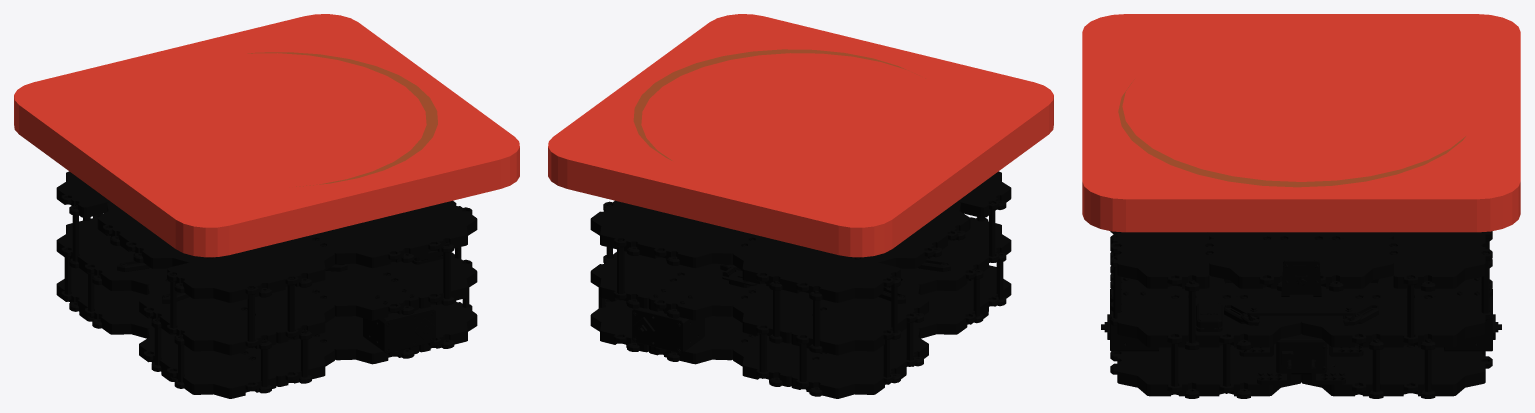
Rendered from AmazonRobot.glb.
3 views of the same model, side by side, from view 1: azimuth 30°, elevation 25°; view 2: azimuth 150°, elevation 25°; view 3: azimuth 270°, elevation 25° (orthographic). The views are drawn at different scales.
Visible parts, largest first — view 1: Cube.001, waffle_pi_base, Circle; view 2: Cube.001, waffle_pi_base, Circle; view 3: Cube.001, waffle_pi_base, Circle.
Part boxes in pixels (x1,y1,x2,y2): Cube.001: (14,14,519,257); waffle_pi_base: (56,171,477,398); Circle: (247,52,437,186); Cube.001: (548,14,1053,257); waffle_pi_base: (590,171,1011,398); Circle: (633,49,925,160); Cube.001: (1082,14,1520,232); waffle_pi_base: (1101,231,1501,398); Circle: (1118,79,1465,187).
Bounding box in the file's own units: 2.69 × 1.62 × 2.69.
